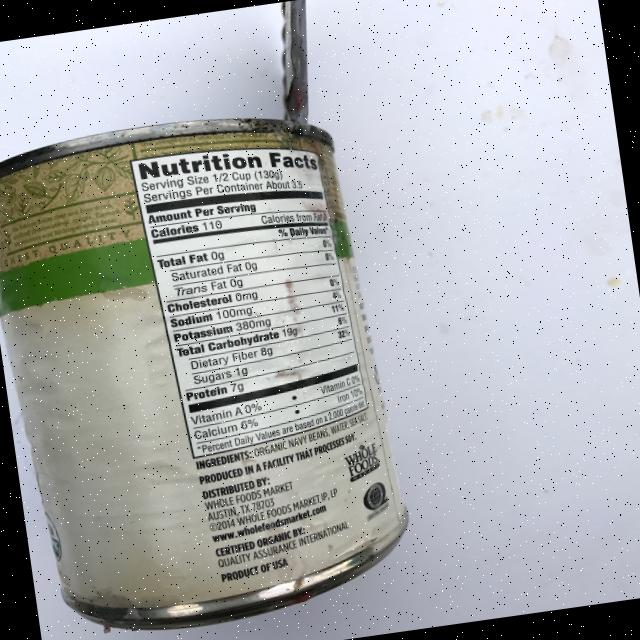metal: (0, 95, 420, 640)
